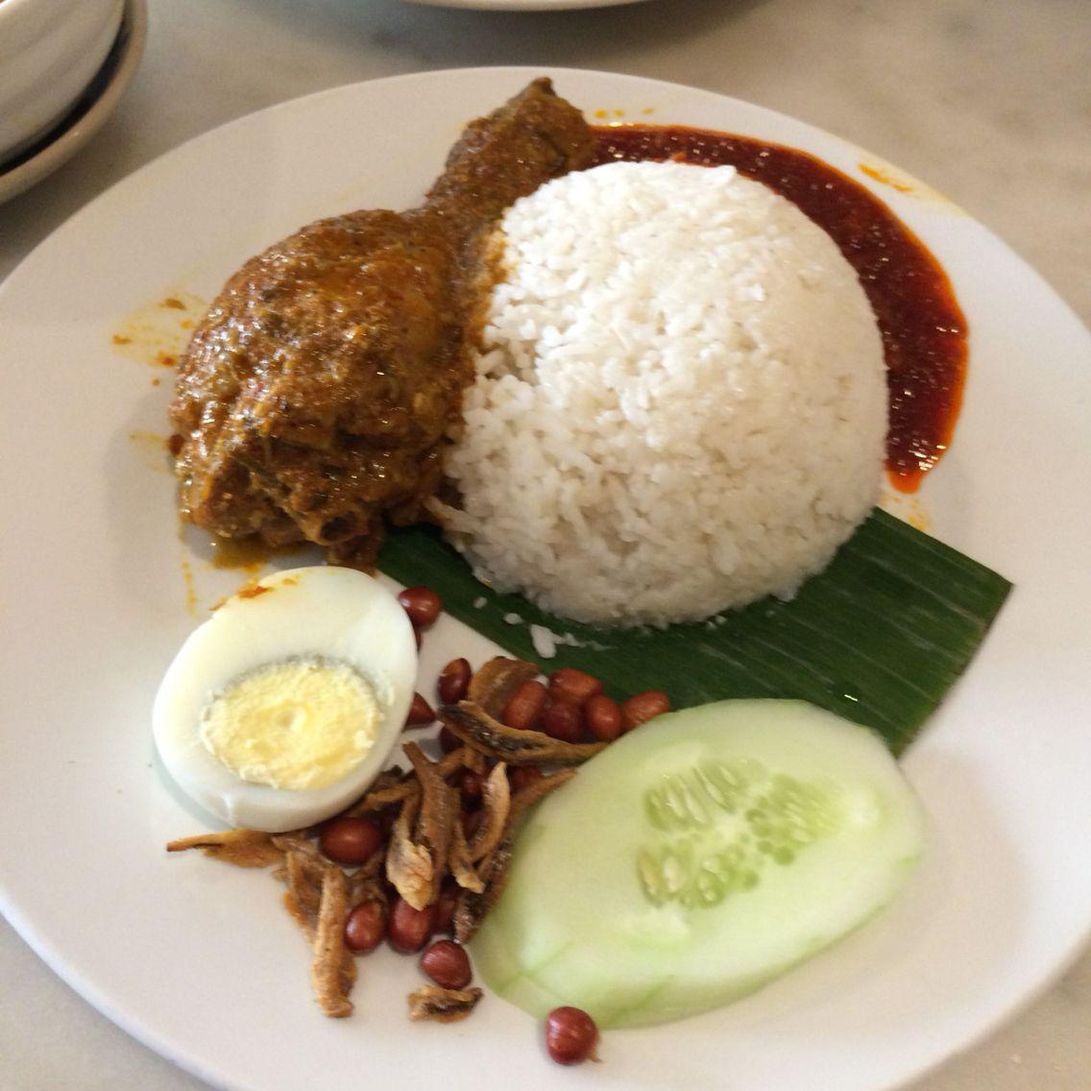Anchovies: (167, 659, 610, 1018)
Boiled-Egg: (160, 568, 417, 829)
Cucumber: (465, 699, 913, 1038)
Peanuts: (508, 669, 670, 742), (321, 819, 380, 865), (546, 1007, 599, 1058), (424, 941, 473, 990), (390, 900, 431, 951), (346, 903, 385, 952), (439, 659, 475, 704), (479, 667, 514, 709), (402, 604, 442, 631)
Rendang-Chicken: (165, 89, 659, 571)
Rice: (435, 164, 886, 623)
Sambal: (591, 126, 968, 477)
